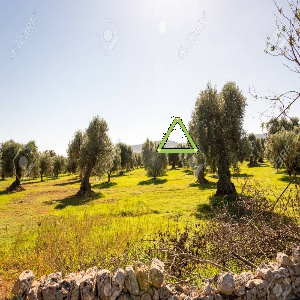triangle: (152, 112, 200, 155)
